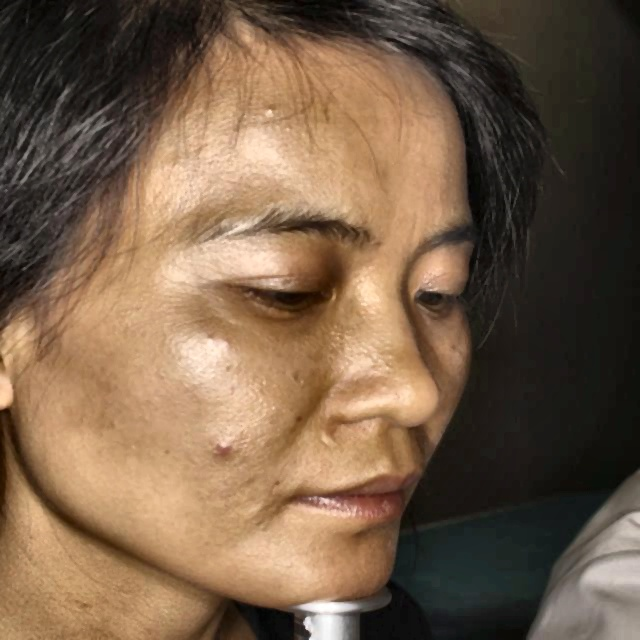comedone: (212, 432, 244, 471)
